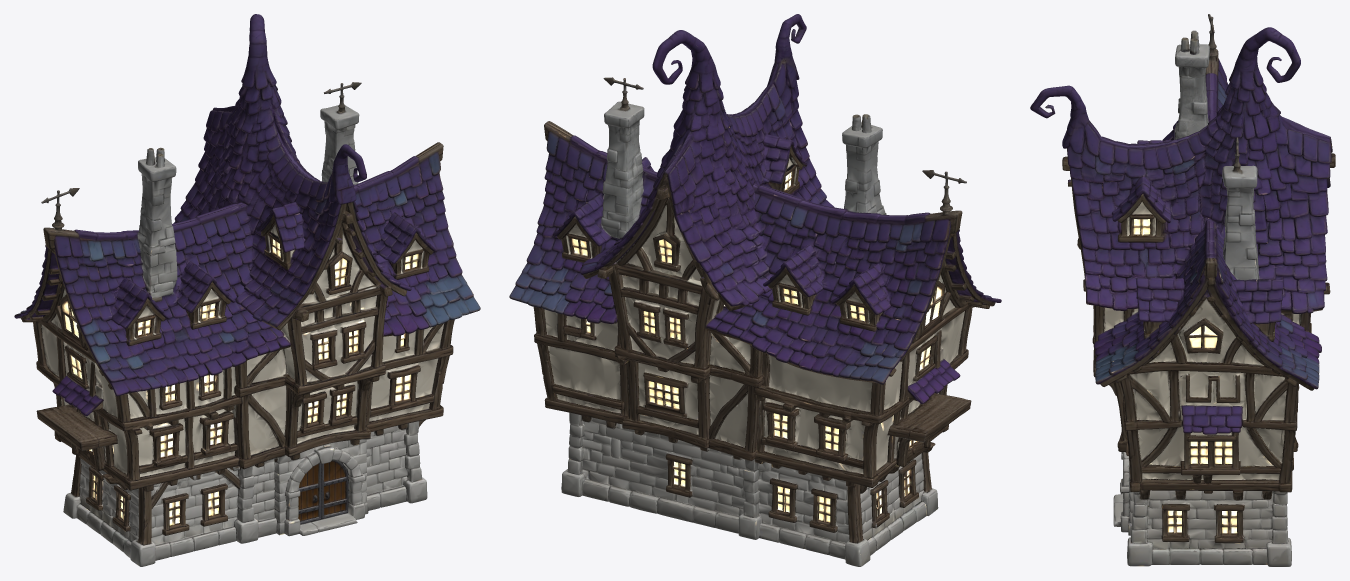
File: SilverTavern_300k.glb
3 views of the same model, side by side, from view 1: azimuth 30°, elevation 25°; view 2: azimuth 150°, elevation 25°; view 3: azimuth 270°, elevation 25° (orthographic). The views are drawn at different scales.
Parts seen in each view (by area): view 1: Mesh_0; view 2: Mesh_0; view 3: Mesh_0.
Boxes of the visible parts, <box> form: Mesh_0: <box>14,14,480,566</box>; Mesh_0: <box>509,14,1001,566</box>; Mesh_0: <box>1030,14,1335,566</box>.
Size of the model in its own units: 1.74 by 1.9 by 1.09.
Materials: 1 (1 with a texture image).
